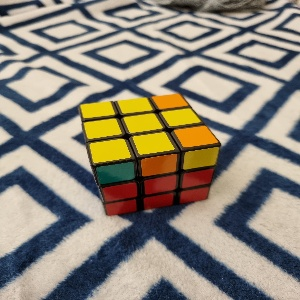cube: (76, 93, 222, 216)
